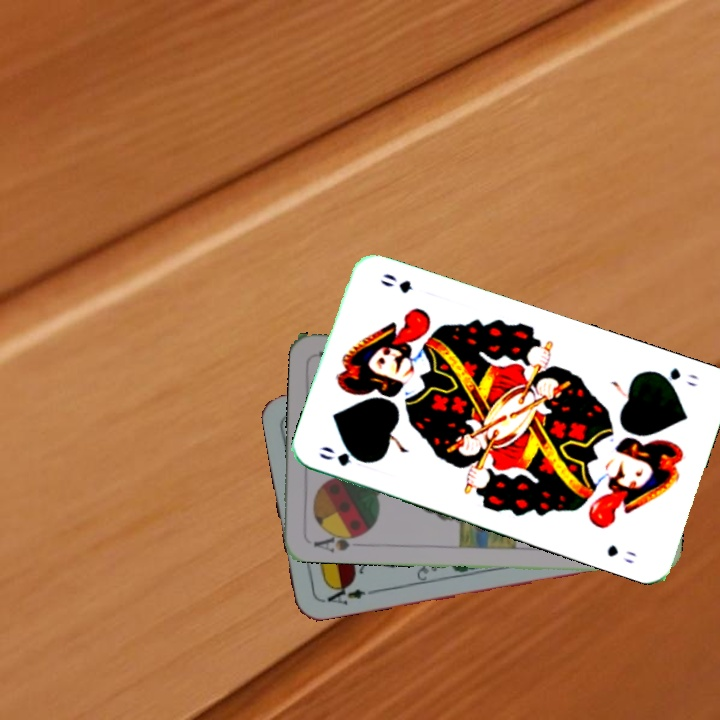EA: (317, 579, 368, 608)
GO: (315, 442, 374, 469), (647, 363, 701, 390)
SA: (309, 527, 366, 555)
